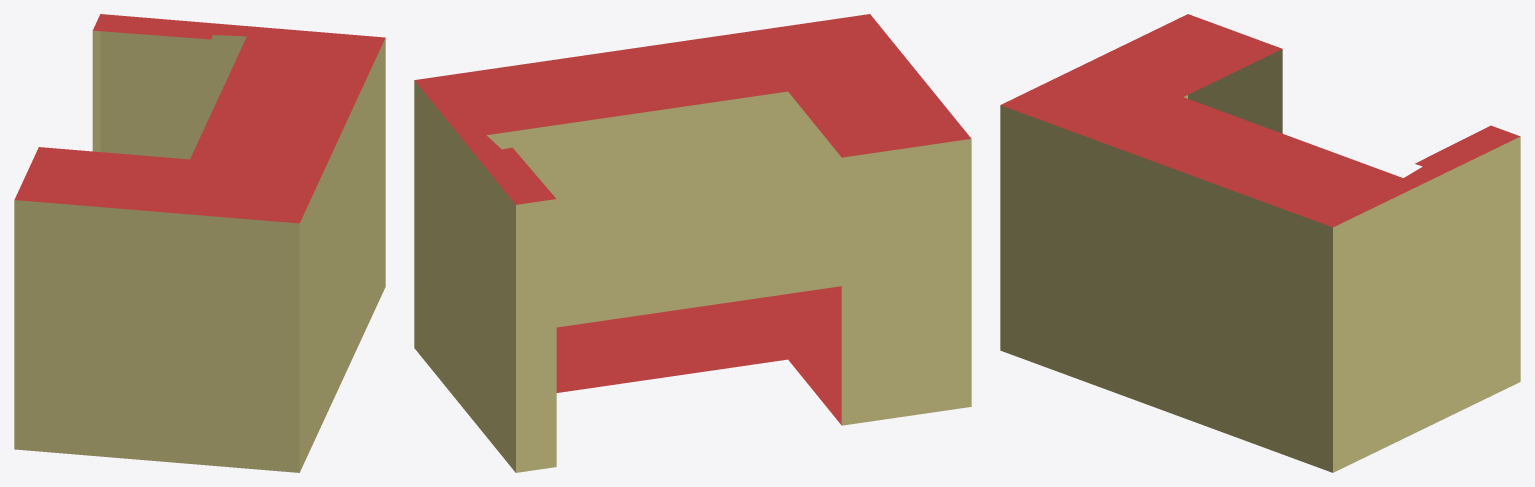
3 renders of one model, left to right at view 1: azimuth 30°, elevation 25°; view 2: azimuth 150°, elevation 25°; view 3: azimuth 270°, elevation 25°, orthographic. The views are drawn at different scales.
Bounding box in the file's own units: 11.93 × 12.28 × 6.39.
